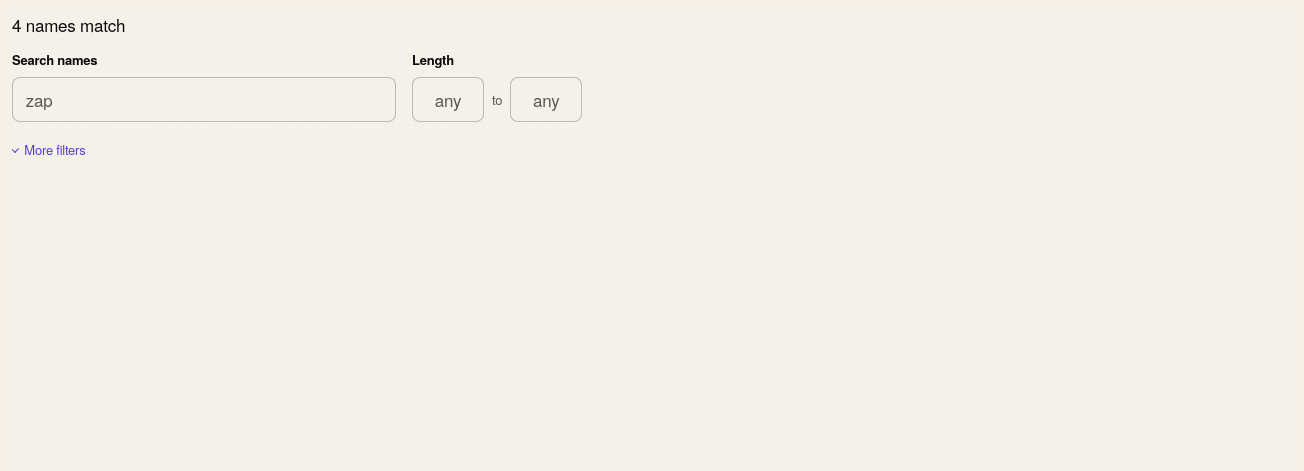
Test: Toolbar disclosure › shows search and length at once, and keeps the rest one control away
The width and height of the screenshot is (1304, 471).
Expected: the search field labelled "Search names" is shown, [12,77,396,122]
Expected: the number field named "Shortest label length" is shown, [412,77,484,122]
Click the heading "More filters" at coordinates (49, 150), box [12,134,86,166]
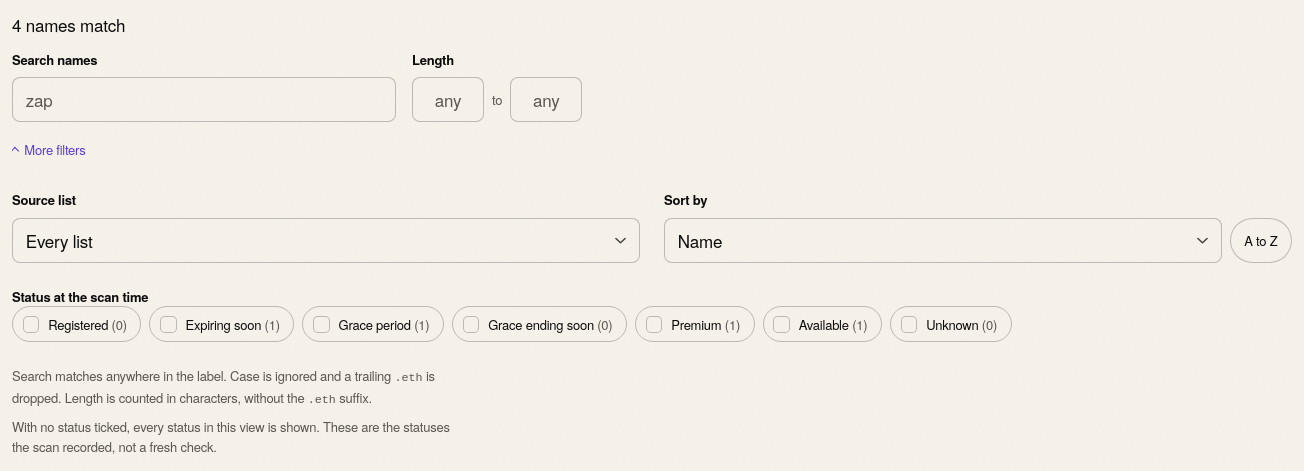
Expected: the dropdown labelled "Sort by" is shown, [664,218,1222,263]
Expected: the dropdown labelled "Source list" is shown, [12,218,640,263]
Expected: the checkbox labelled "Available (1)" is shown, [773,316,790,333]
